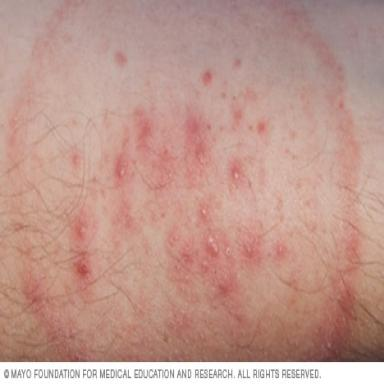Tinea-Corporis: (11, 3, 359, 358)
